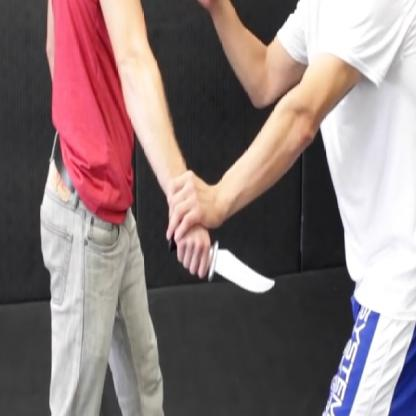knife: (163, 227, 280, 306)
